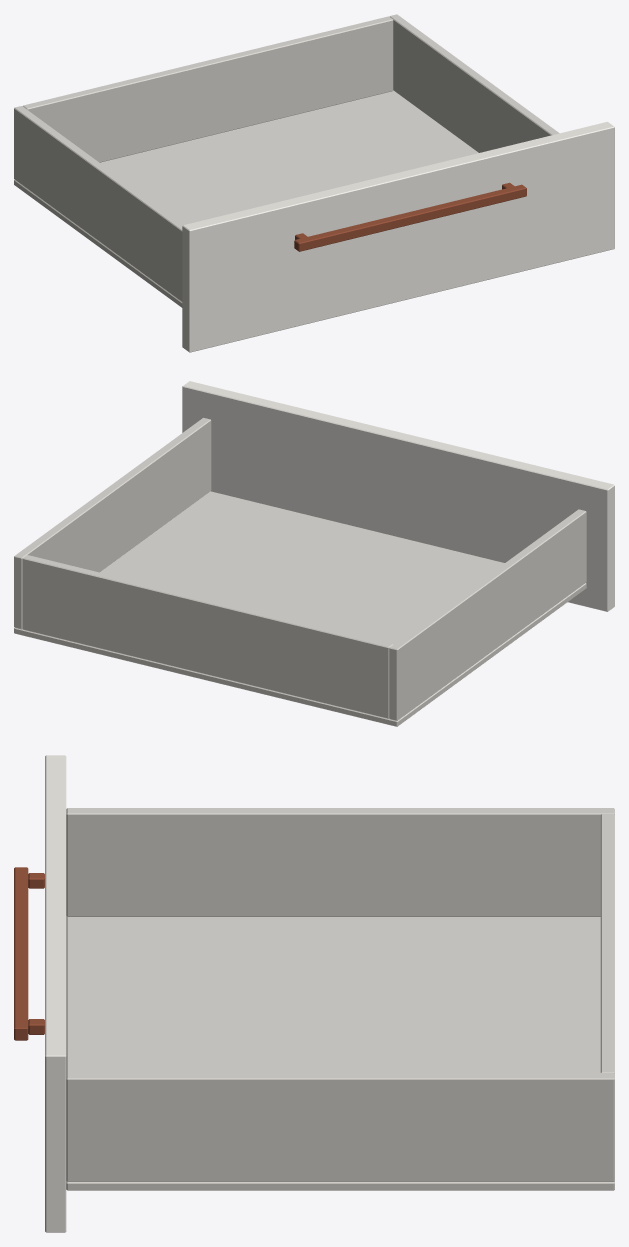
File: kitchen_island_b2_top_drawer.glb
3 views of the same model, one above another, from view 1: azimuth 30°, elevation 25°; view 2: azimuth 150°, elevation 25°; view 3: azimuth 270°, elevation 25° (orthographic). The views are drawn at different scales.
Visible parts, largest first — view 1: kitchen_island_b2_top_drawer; view 2: kitchen_island_b2_top_drawer; view 3: kitchen_island_b2_top_drawer.
Part boxes in pixels (x1,y1,x2,y2): kitchen_island_b2_top_drawer: (14, 14, 614, 352); kitchen_island_b2_top_drawer: (14, 381, 614, 726); kitchen_island_b2_top_drawer: (14, 755, 614, 1232).
Size of the model in its own units: 0.597 by 0.1642 by 0.504.
